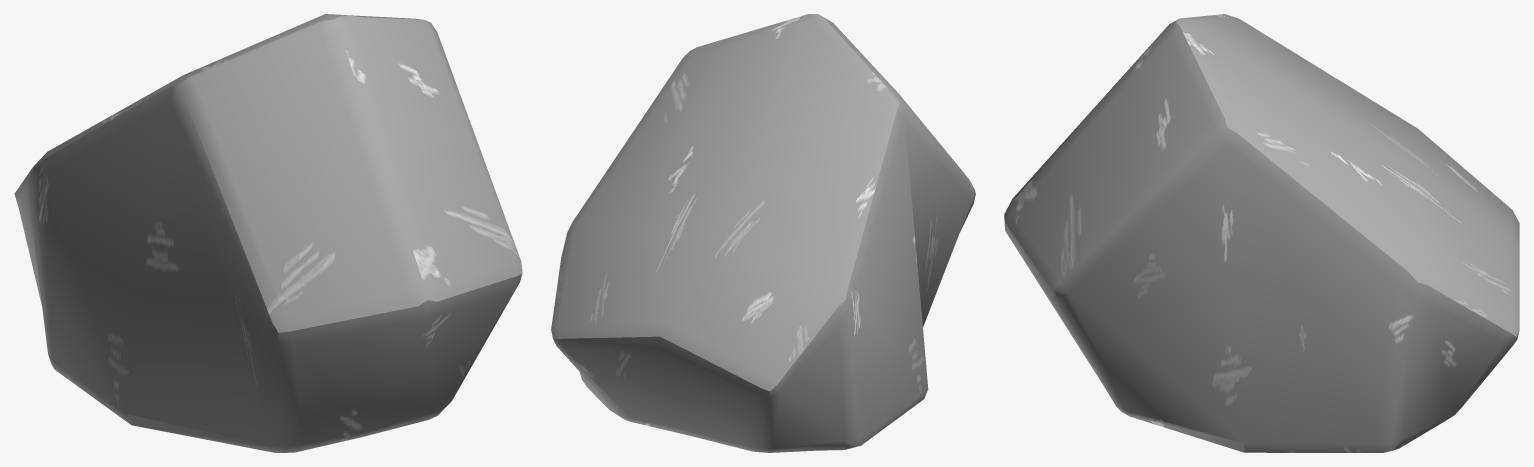
File: kakailloux 2.fbx
3 renders of one model, left to right at view 1: azimuth 30°, elevation 25°; view 2: azimuth 150°, elevation 25°; view 3: azimuth 270°, elevation 25°, orthographic. The views are drawn at different scales.
Visible parts, largest first — view 1: Cube; view 2: Cube; view 3: Cube.
Boxes of the visible parts, x1,y1,x2,y2 form: Cube: [14, 14, 522, 452]; Cube: [551, 14, 975, 452]; Cube: [1004, 14, 1519, 452].
Size of the model in its own units: 200 by 222 by 286.
1 material, 1 textured.
